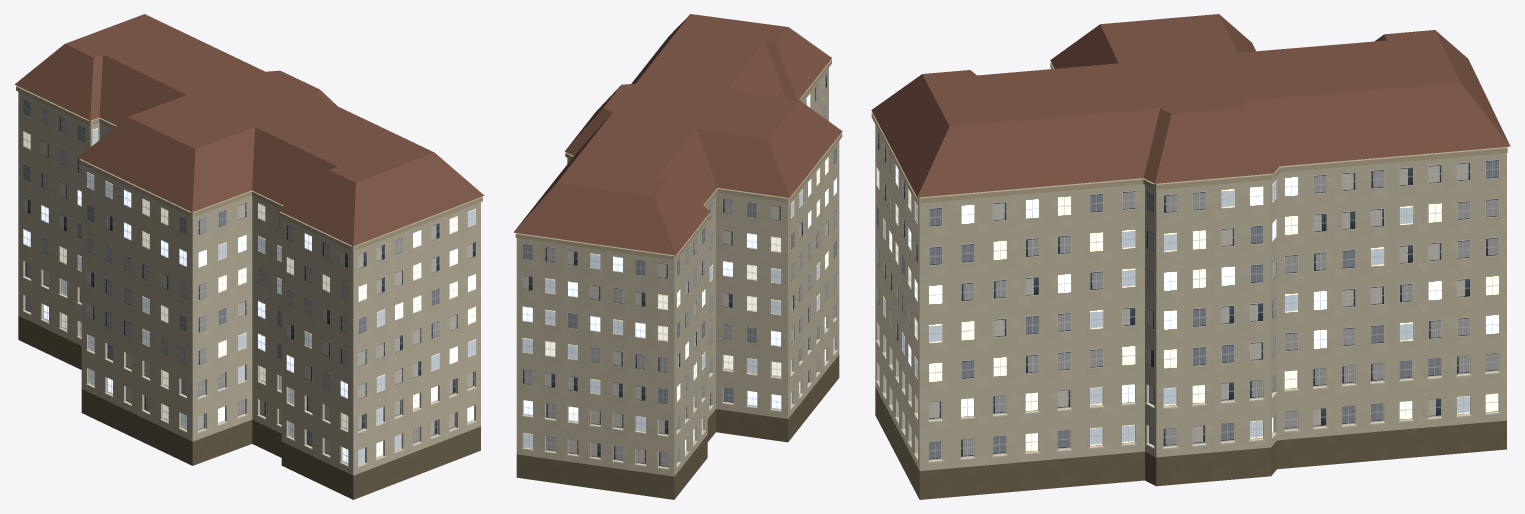
The model's file is sh_sihlfeld.glb.
The picture shows the model from 3 angles, left to right: view 1: azimuth 30°, elevation 25°; view 2: azimuth 150°, elevation 25°; view 3: azimuth 270°, elevation 25°; orthographic projection. The views are drawn at different scales.
Parts seen in each view (by area): view 1: sh_sihlfeld; view 2: sh_sihlfeld; view 3: sh_sihlfeld.
Boxes of the visible parts, <box> form: sh_sihlfeld: <box>15,14,484,499</box>; sh_sihlfeld: <box>513,14,842,499</box>; sh_sihlfeld: <box>871,14,1510,499</box>.
Size of the model in its own units: 34.5 by 36.8 by 60.23.
Materials: 3 (3 with a texture image).
